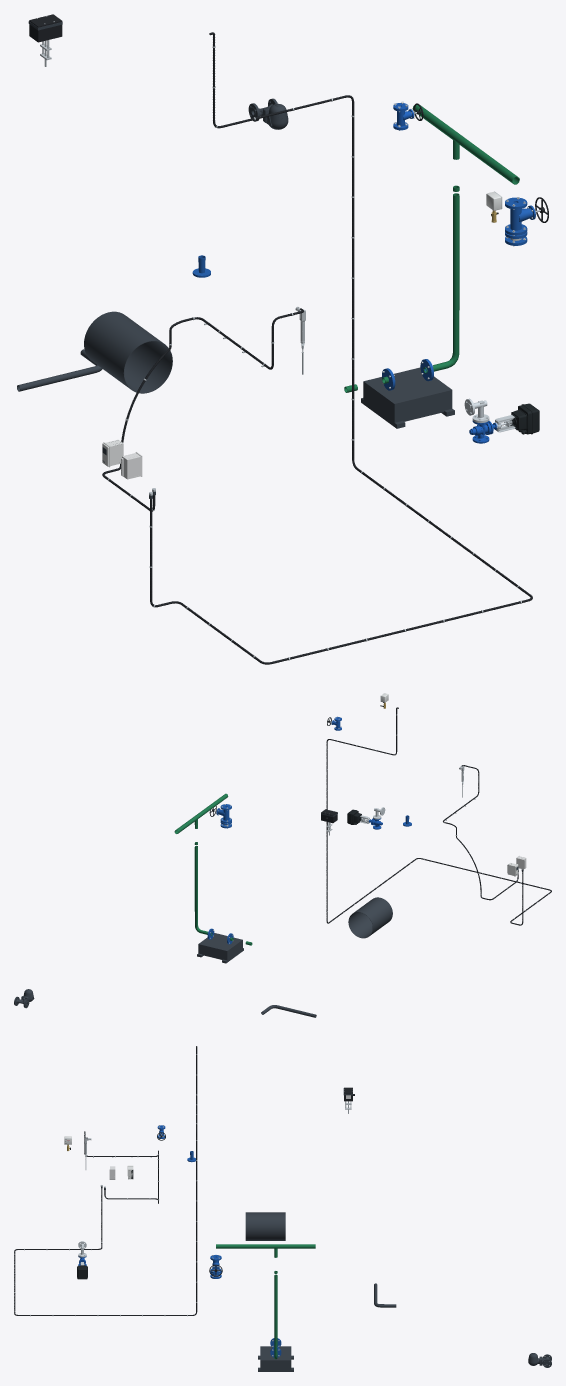
The model's file is s4000-7-D2_fYsst.glb.
The picture shows the model from 3 angles, top to bottom: view 1: azimuth 30°, elevation 25°; view 2: azimuth 150°, elevation 25°; view 3: azimuth 270°, elevation 25°; orthographic projection. The views are drawn at different scales.
Visible parts, largest first — view 1: flue_spacer / dark, gpz_drive_cable / black, pump_branch_2 / dark, pump_branch_2 / green, bcv925 / bcv925_0.npz, wiring_lp200 / black, pump_delivery / green, pump_out_valve_1 / blue; view 2: flue_spacer / dark, gpz_drive_cable / black, pump_branch_2 / dark, pump_branch_2 / green; view 3: flue_spacer / dark, gpz_drive_cable / black, pump_branch_2 / dark, pump_delivery / green.
Part boxes in pixels (box(x1,y1,x2,y2)): flue_spacer / dark: box(84, 311, 172, 393); gpz_drive_cable / black: box(150, 32, 532, 664); pump_branch_2 / dark: box(361, 367, 454, 428); pump_branch_2 / green: box(344, 140, 459, 392); bcv925 / bcv925_0.npz: box(469, 403, 539, 443); wiring_lp200 / black: box(102, 308, 304, 511); pump_delivery / green: box(412, 105, 519, 184); pump_out_valve_1 / blue: box(505, 197, 535, 235); flue_spacer / dark: box(348, 897, 392, 938); gpz_drive_cable / black: box(326, 707, 551, 925); pump_branch_2 / dark: box(197, 933, 243, 963); pump_branch_2 / green: box(194, 819, 252, 945); flue_spacer / dark: box(245, 1212, 285, 1240); gpz_drive_cable / black: box(14, 1046, 197, 1315); pump_branch_2 / dark: box(258, 1346, 293, 1371); pump_delivery / green: box(216, 1244, 315, 1248).
Size of the model in its own units: 4.25 by 3.47 by 6.74.
